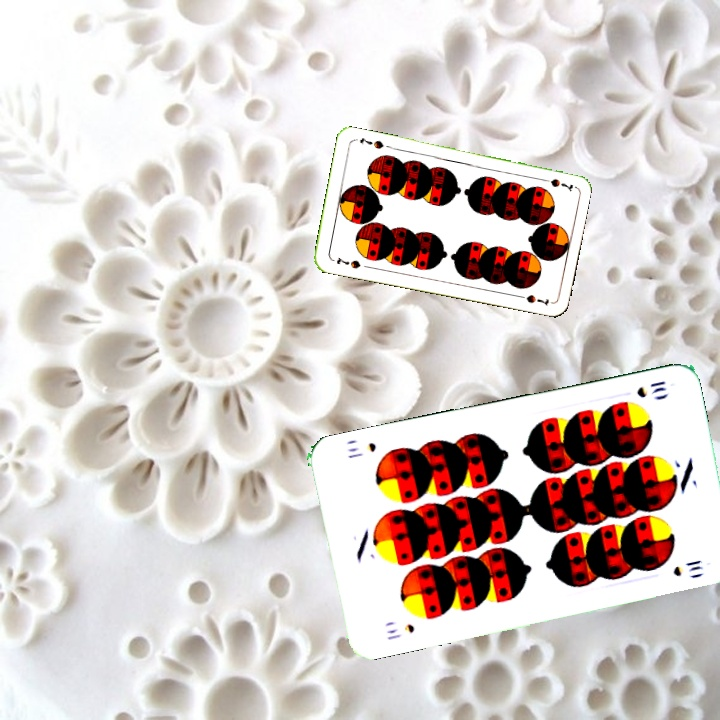S10: (383, 619, 417, 643), (633, 377, 668, 400)
S7: (535, 174, 576, 193), (332, 253, 363, 271)
